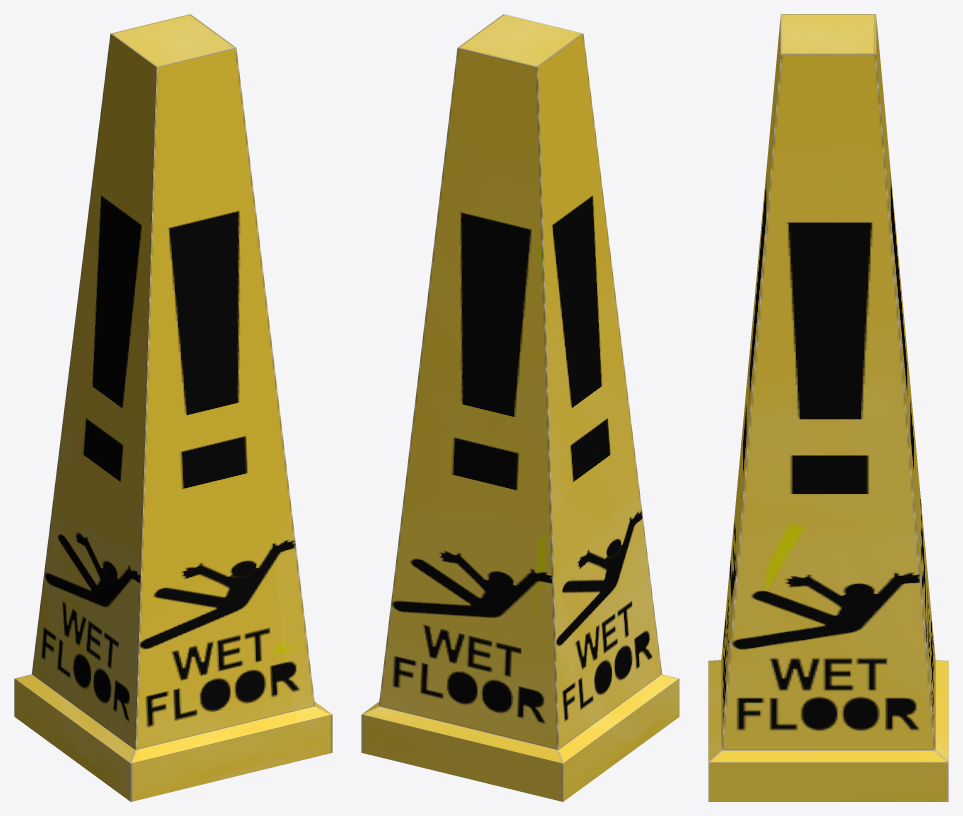
File: Wet_Floor_Sign.fbx
The picture shows the model from 3 angles, left to right: view 1: azimuth 30°, elevation 25°; view 2: azimuth 150°, elevation 25°; view 3: azimuth 270°, elevation 25°; orthographic projection. The views are drawn at different scales.
Visible parts, largest first — view 1: pCube1; view 2: pCube1; view 3: pCube1.
Part boxes in pixels (x1=…): pCube1: x1=14, y1=14, x2=332, y2=801; pCube1: x1=361, y1=14, x2=679, y2=801; pCube1: x1=708, y1=14, x2=948, y2=801.
Bounding box in the file's own units: 25.68 × 84.43 × 25.68.
1 material, 1 textured.
